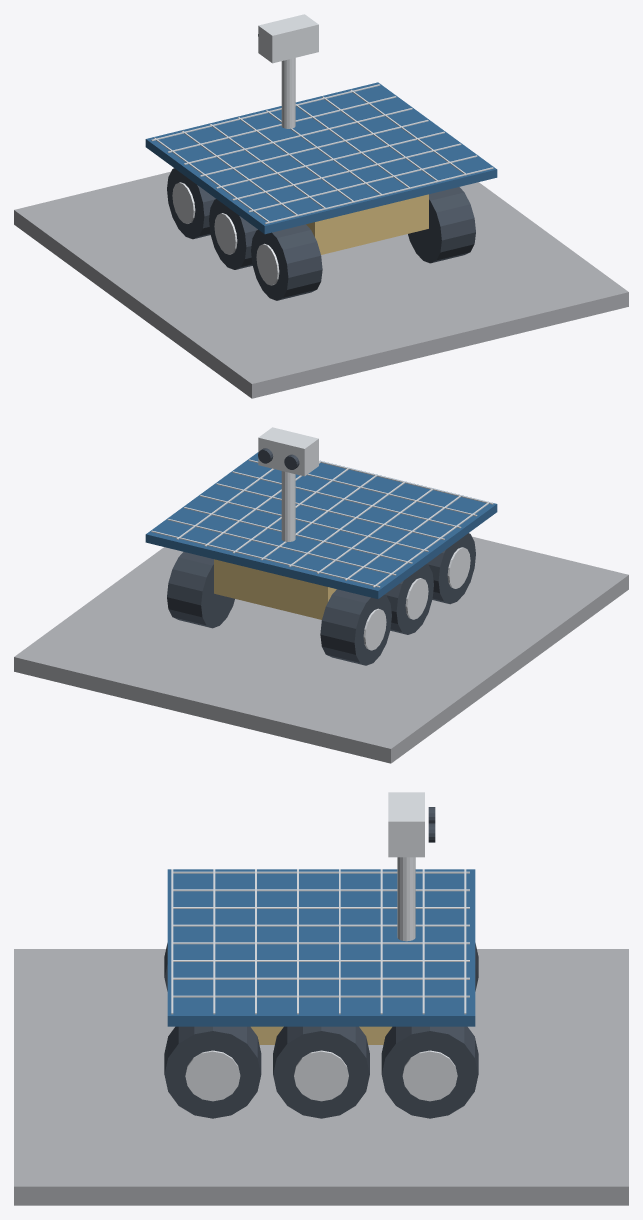
File: rover.glb
The picture shows the model from 3 angles, top to bottom: view 1: azimuth 30°, elevation 25°; view 2: azimuth 150°, elevation 25°; view 3: azimuth 270°, elevation 25°; orthographic projection. The views are drawn at different scales.
Visible parts, largest first — view 1: rover-schematic; view 2: rover-schematic; view 3: rover-schematic.
Boxes of the visible parts, x1,y1,x2,y2 form: rover-schematic: (14, 14, 628, 398); rover-schematic: (14, 427, 628, 763); rover-schematic: (14, 792, 628, 1205).
Size of the model in its own units: 4.3 by 2.36 by 4.7.
